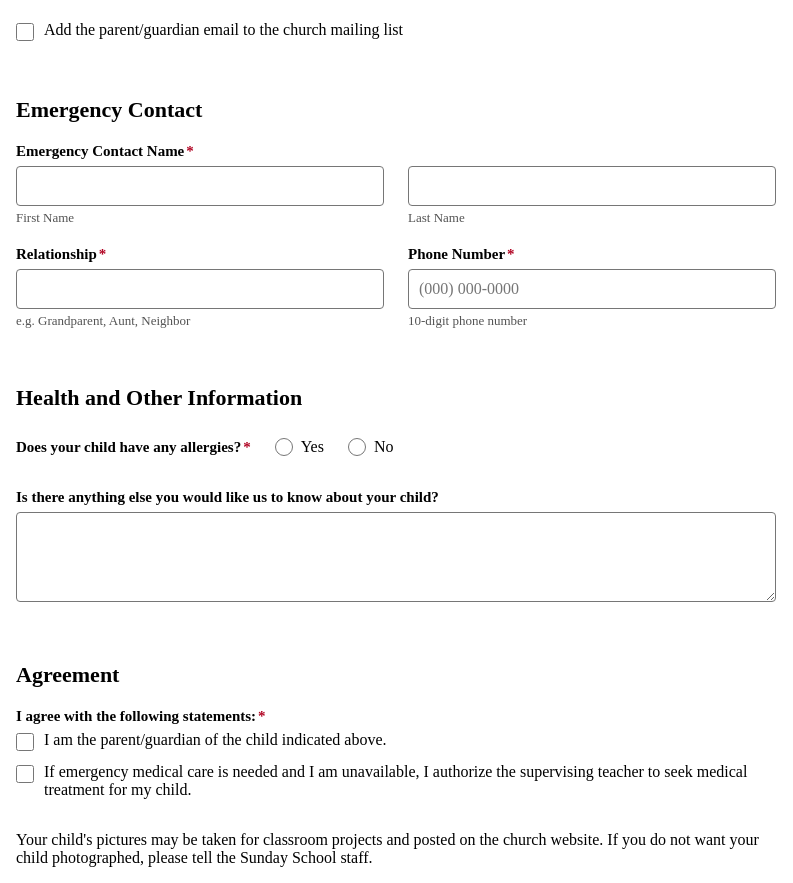
SundaySchoolRegistrationForm › only shows allergy details when the child has allergies
(page scrolled)
Expected: the field labelled "allergy details" is not shown
Click the radio button labelled "Yes". click: (284, 447)
box: [275,438,293,456]
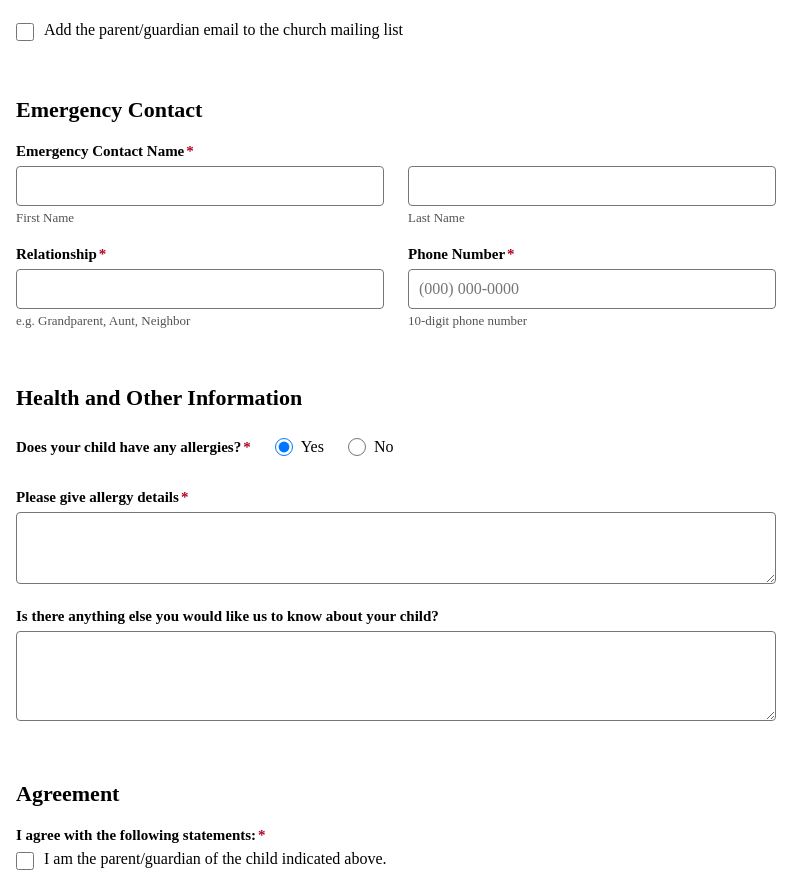
Result: the text box labelled "Please give allergy details*" is shown at [16,512,776,584]
